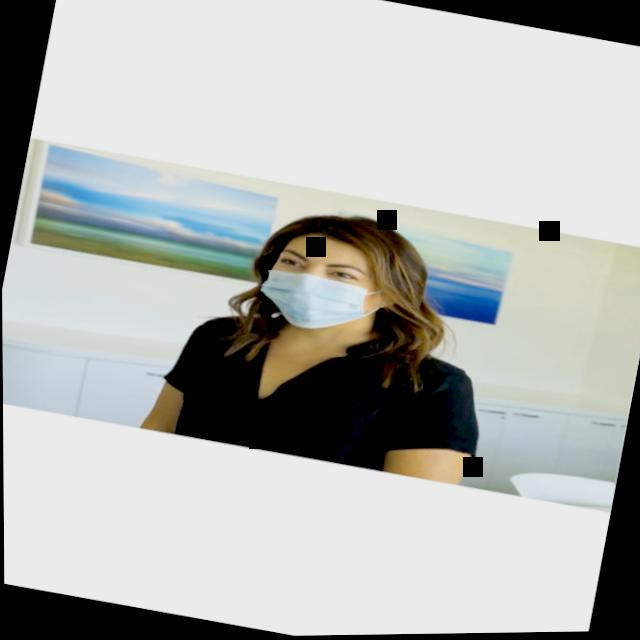Mask: (240, 216, 399, 345)
